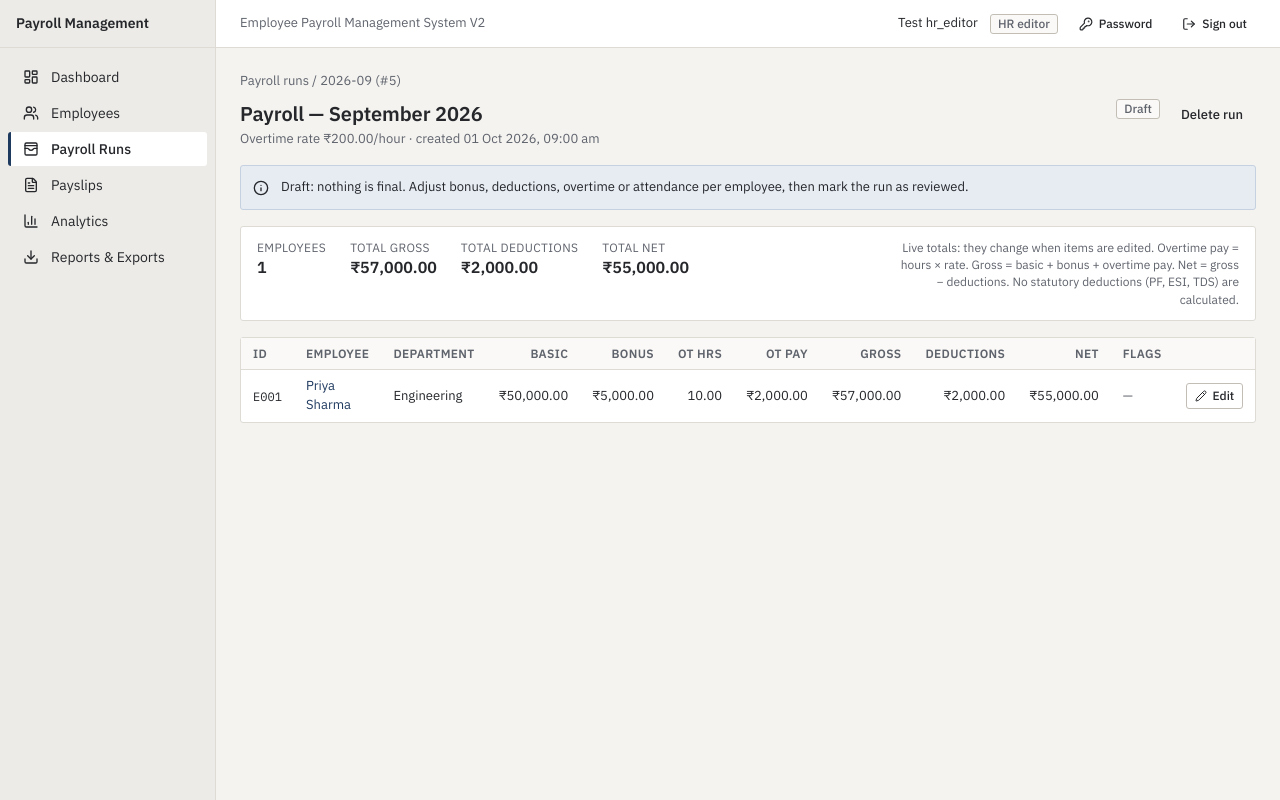
Test: Draft run › client-side validation blocks bad values; server field errors are displayed
Click the button with aria-label "Edit Priya Sharma". click: (1214, 396)
box: [1186, 383, 1243, 409]
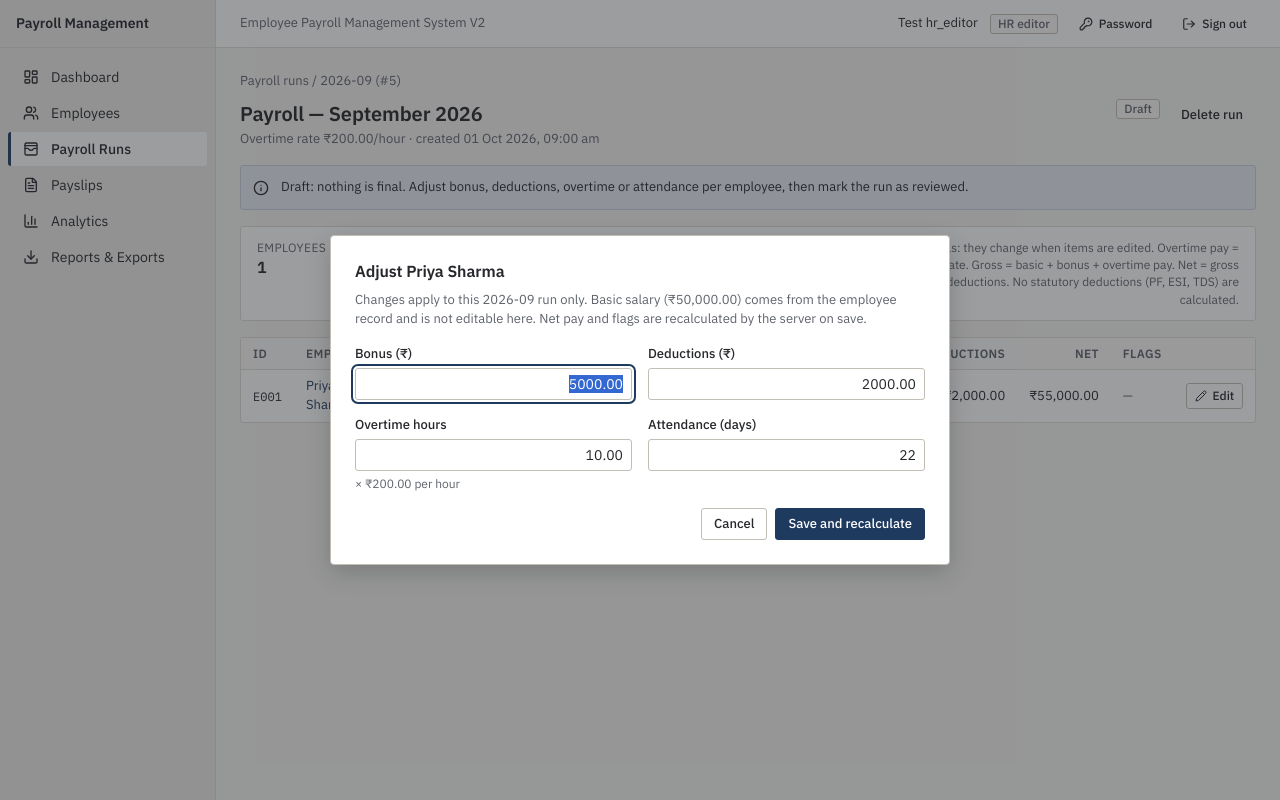
Replace the text in the field labelled "Bonus (₹)" with "-5". click: (494, 384)
box: [355, 368, 632, 400]
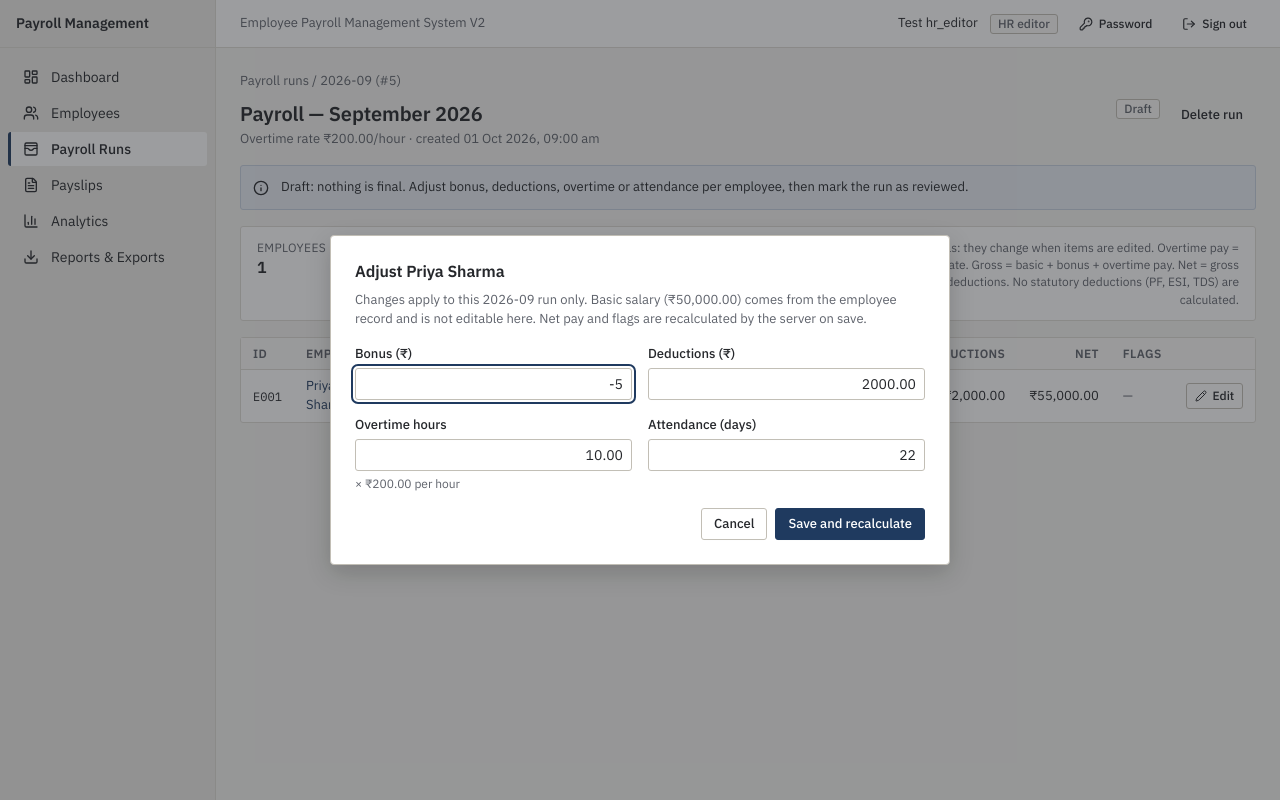
Click the button "Save and recalculate". click: (850, 524)
box: [776, 508, 925, 540]
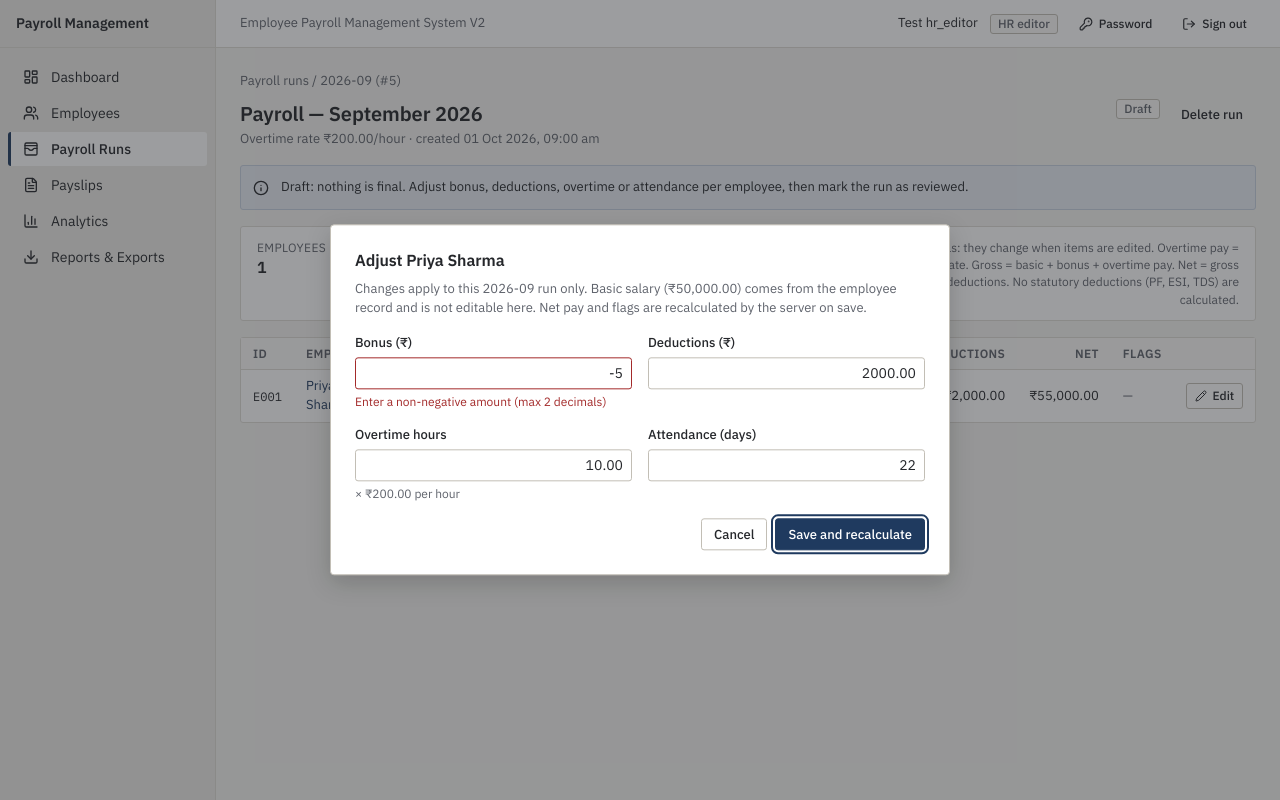
Expected: the text "Enter a non-negative amount (max 2 decimals)" is shown, [355, 393, 632, 410]
Replace the text in the field labelled "Bonus (₹)" with "5000". click: (494, 373)
box: [355, 357, 632, 389]
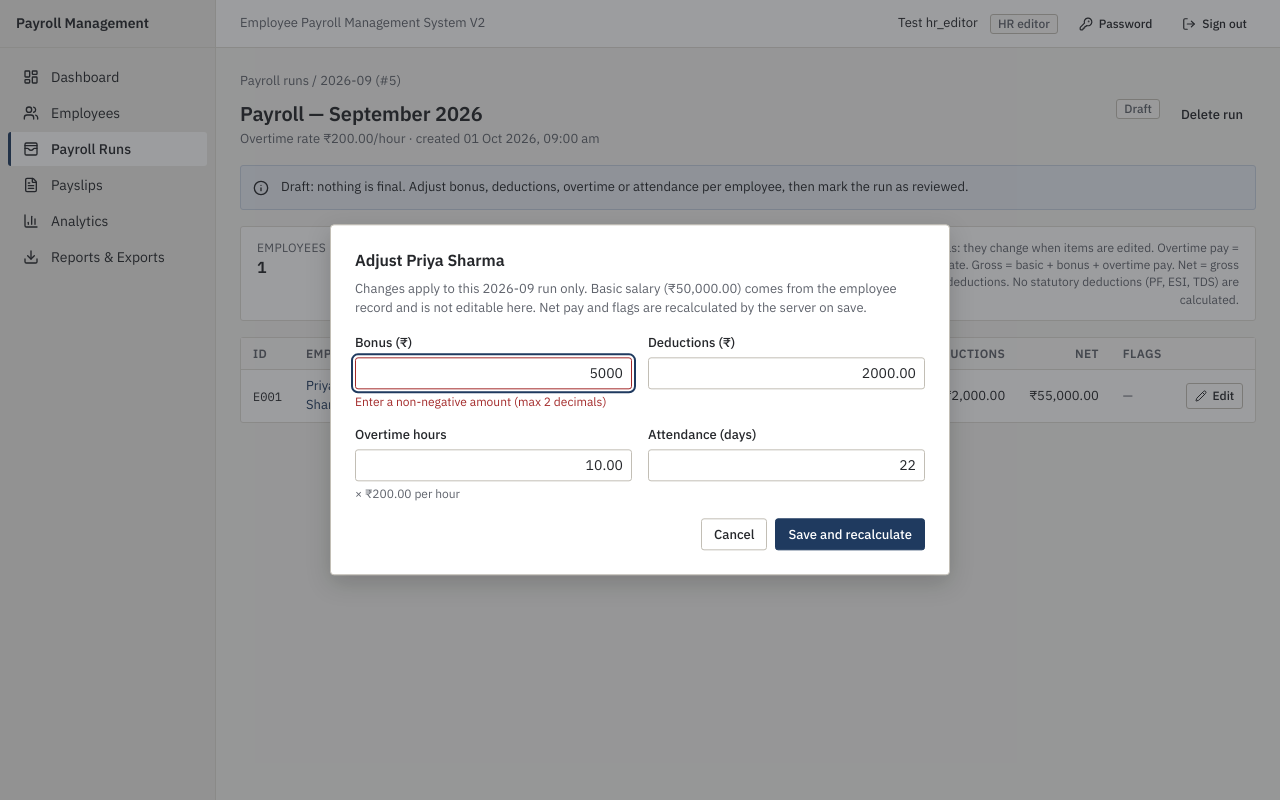
Click the button "Save and recalculate". click: (850, 535)
box: [776, 519, 925, 551]
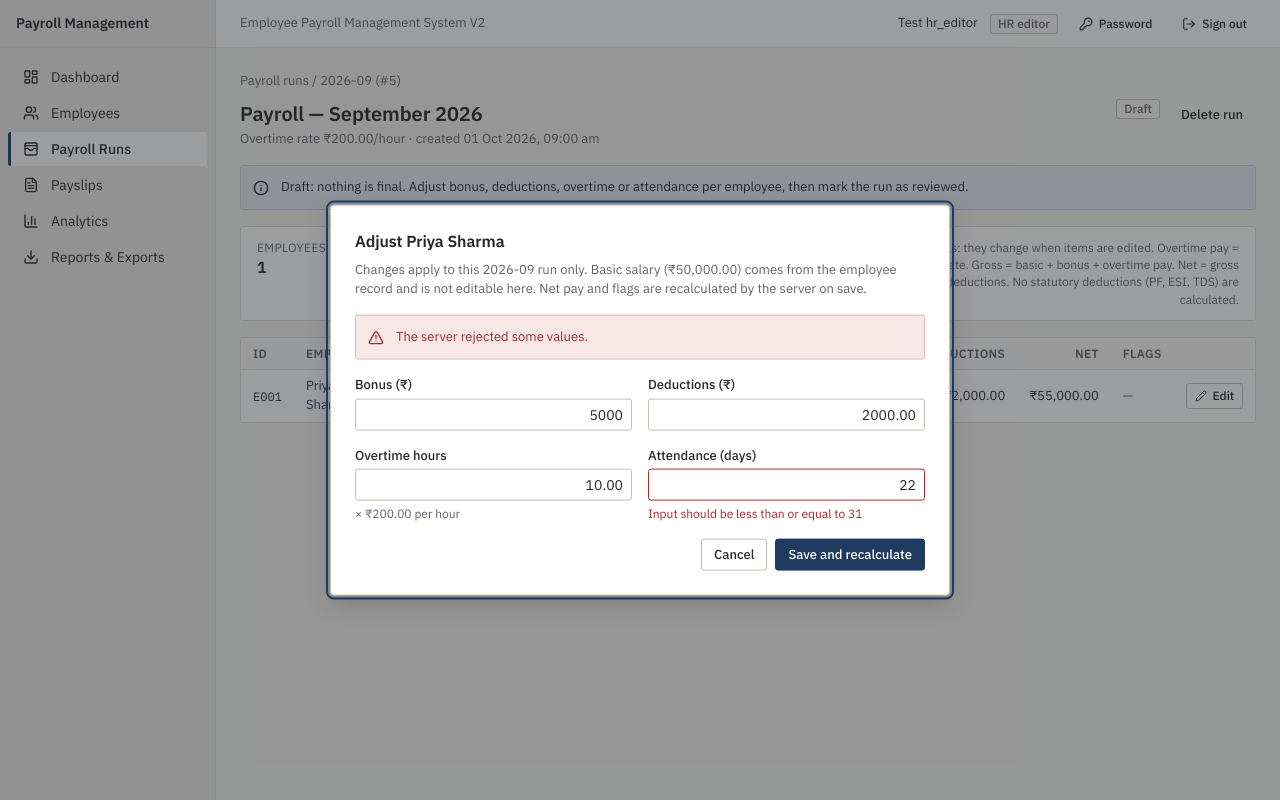
Expected: the text "Input should be less than or equal to 31" is shown, [648, 506, 862, 521]
